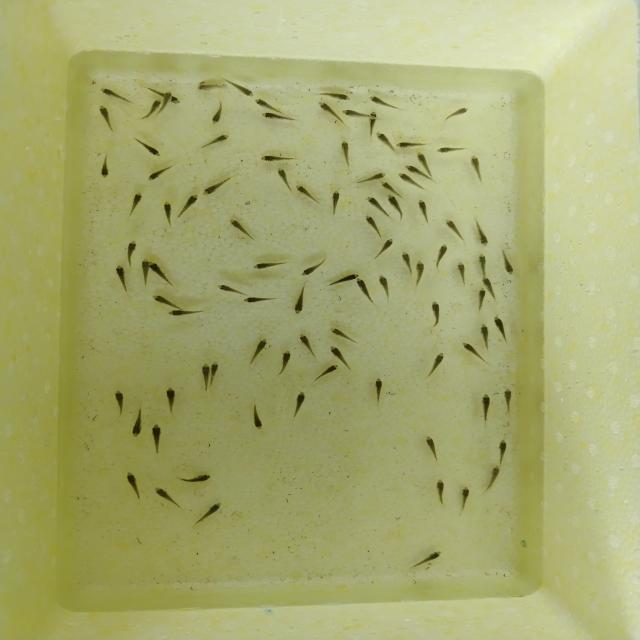fingerling: (406, 550, 442, 574), (192, 501, 222, 528), (150, 485, 181, 509), (176, 471, 218, 488), (246, 338, 270, 367), (174, 195, 199, 222), (148, 261, 175, 286), (202, 175, 230, 198), (109, 262, 129, 292), (137, 139, 164, 160), (231, 218, 258, 239), (124, 471, 144, 499), (247, 400, 265, 430), (292, 388, 308, 421), (476, 393, 493, 424), (329, 326, 358, 344), (165, 306, 208, 318), (96, 85, 126, 102), (130, 408, 147, 438), (229, 80, 257, 98), (458, 342, 483, 362), (328, 346, 353, 366), (491, 313, 510, 339), (254, 97, 283, 114), (315, 363, 342, 381), (374, 239, 397, 260), (434, 240, 449, 272), (149, 422, 165, 452), (277, 351, 294, 379), (474, 221, 491, 249), (292, 184, 318, 202), (428, 301, 446, 327), (434, 478, 448, 511), (481, 464, 500, 488), (316, 101, 341, 119), (95, 103, 113, 128), (356, 278, 372, 306), (150, 166, 178, 182), (204, 133, 236, 147), (358, 170, 390, 184), (374, 130, 394, 152), (442, 218, 462, 240), (362, 213, 381, 236), (324, 88, 353, 103), (258, 109, 287, 124), (441, 106, 472, 120), (424, 437, 442, 461), (429, 351, 447, 375), (494, 439, 511, 464), (210, 100, 224, 130), (126, 192, 142, 218), (468, 152, 484, 178), (296, 287, 310, 316), (367, 94, 394, 109), (300, 262, 325, 278), (328, 272, 361, 284), (162, 200, 176, 228), (275, 165, 292, 188), (378, 274, 391, 304), (250, 260, 282, 272), (196, 80, 223, 94), (165, 387, 178, 416), (149, 294, 180, 306), (338, 139, 352, 165), (99, 153, 113, 179), (112, 388, 126, 414), (258, 153, 294, 163), (298, 333, 315, 354), (413, 260, 426, 287), (475, 252, 489, 277), (412, 150, 431, 168), (142, 99, 162, 116), (416, 200, 429, 226), (482, 277, 498, 298), (124, 238, 138, 262), (478, 324, 492, 348), (502, 252, 517, 274), (458, 486, 473, 508), (387, 195, 402, 217), (342, 108, 369, 120), (371, 377, 385, 400), (241, 296, 272, 306), (396, 170, 414, 187), (400, 250, 412, 275), (404, 165, 427, 178), (502, 388, 515, 411), (330, 189, 341, 215), (394, 140, 422, 150), (474, 288, 487, 309), (218, 285, 245, 295), (366, 193, 380, 212), (456, 262, 467, 286), (209, 359, 221, 380), (140, 259, 150, 284), (201, 362, 210, 389), (368, 110, 378, 134), (380, 180, 396, 194), (436, 146, 464, 154), (160, 92, 174, 104)
